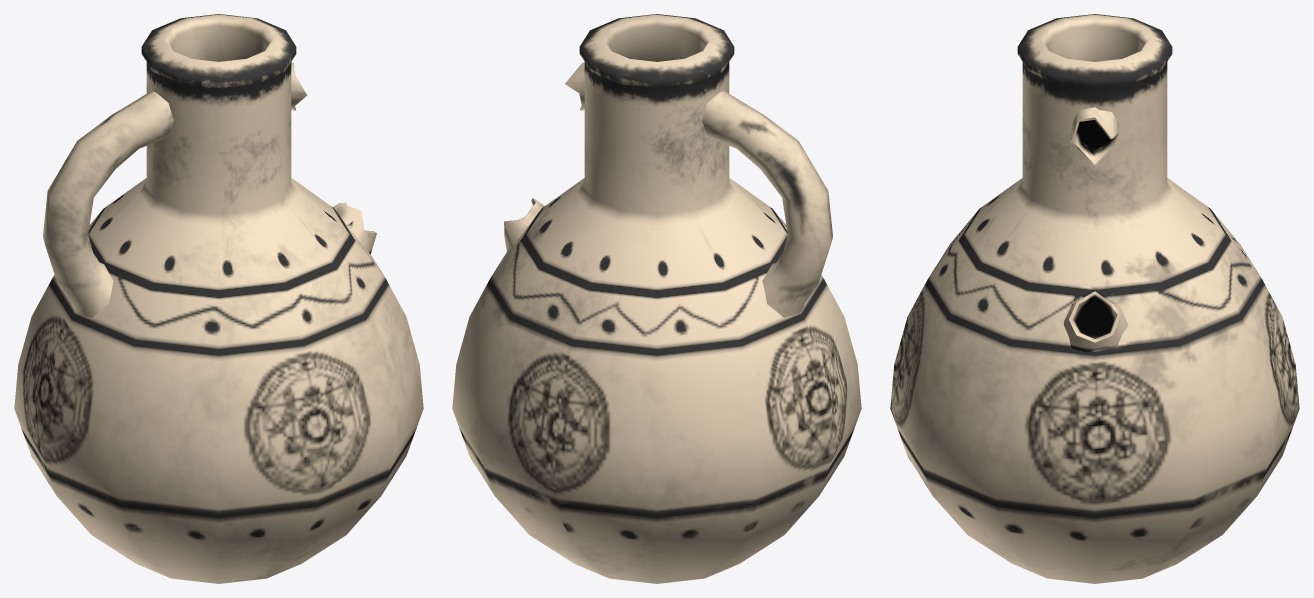
The model's file is Vase_1_break_1.fbx.
The picture shows the model from 3 angles, left to right: view 1: azimuth 30°, elevation 25°; view 2: azimuth 150°, elevation 25°; view 3: azimuth 270°, elevation 25°; orthographic projection.
Parts seen in each view (by area): view 1: Vase_1_break_1; view 2: Vase_1_break_1; view 3: Vase_1_break_1.
Part boxes in pixels (x1=…): Vase_1_break_1: x1=14, y1=14, x2=423, y2=583; Vase_1_break_1: x1=452, y1=14, x2=861, y2=583; Vase_1_break_1: x1=890, y1=14, x2=1299, y2=583.
Size of the model in its own units: 55.56 by 78.53 by 55.56.
